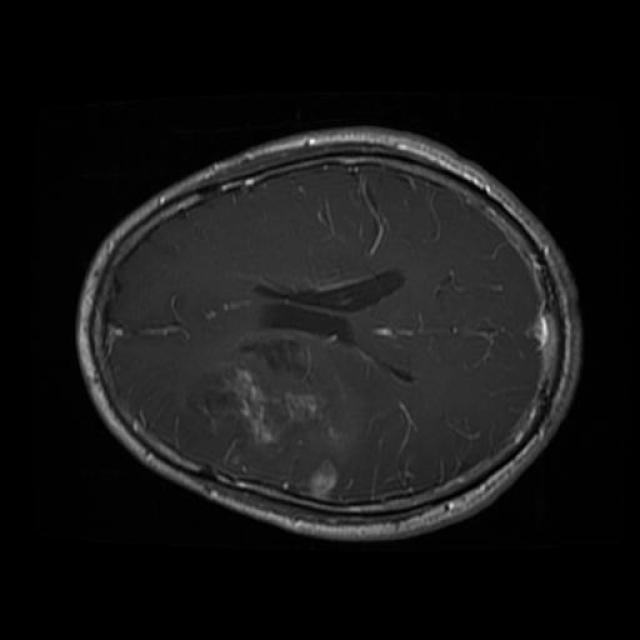Glioma: (184, 335, 341, 499)
